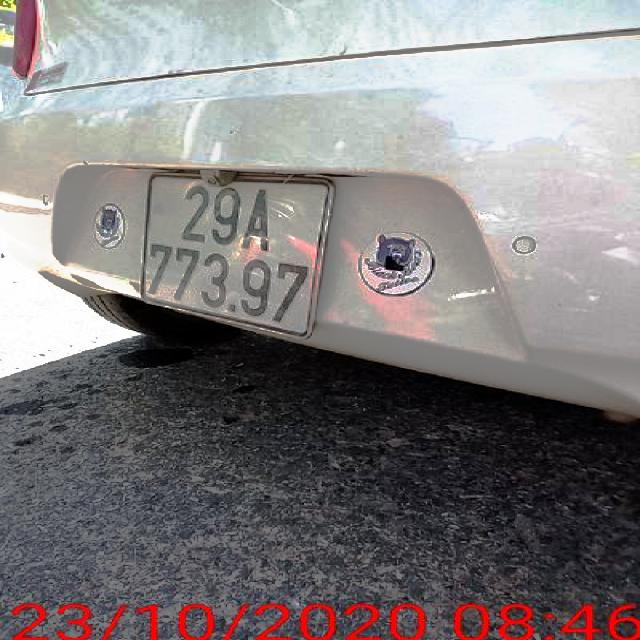license_plate: (145, 178, 335, 337)
